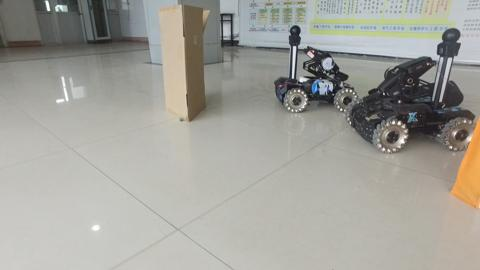box: (157, 8, 210, 123)
chariot: (346, 26, 477, 154), (270, 26, 357, 111)
